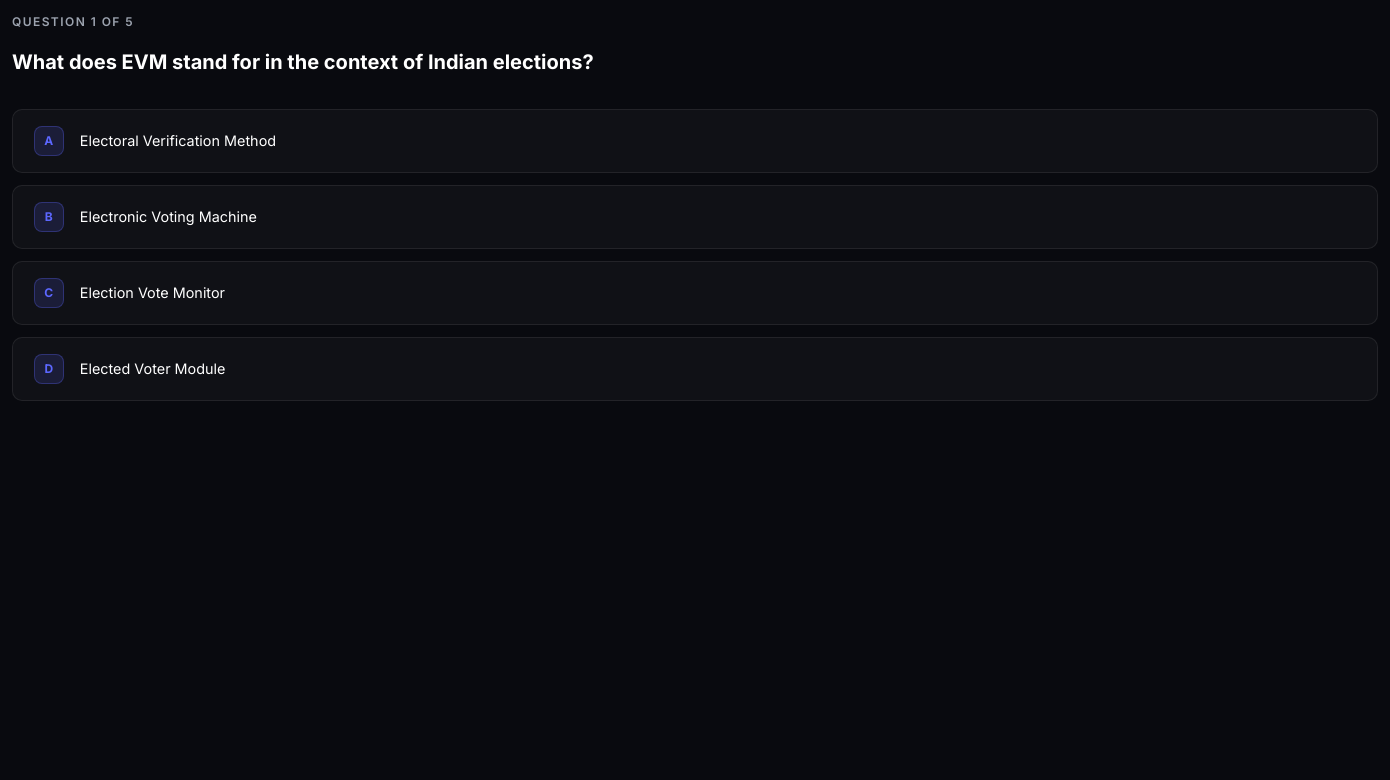
Test: QuizQuestion Component › provides correct feedback for correct answer
Click the text "Electronic Voting Machine". click: (168, 217)
box: [80,206,257,228]
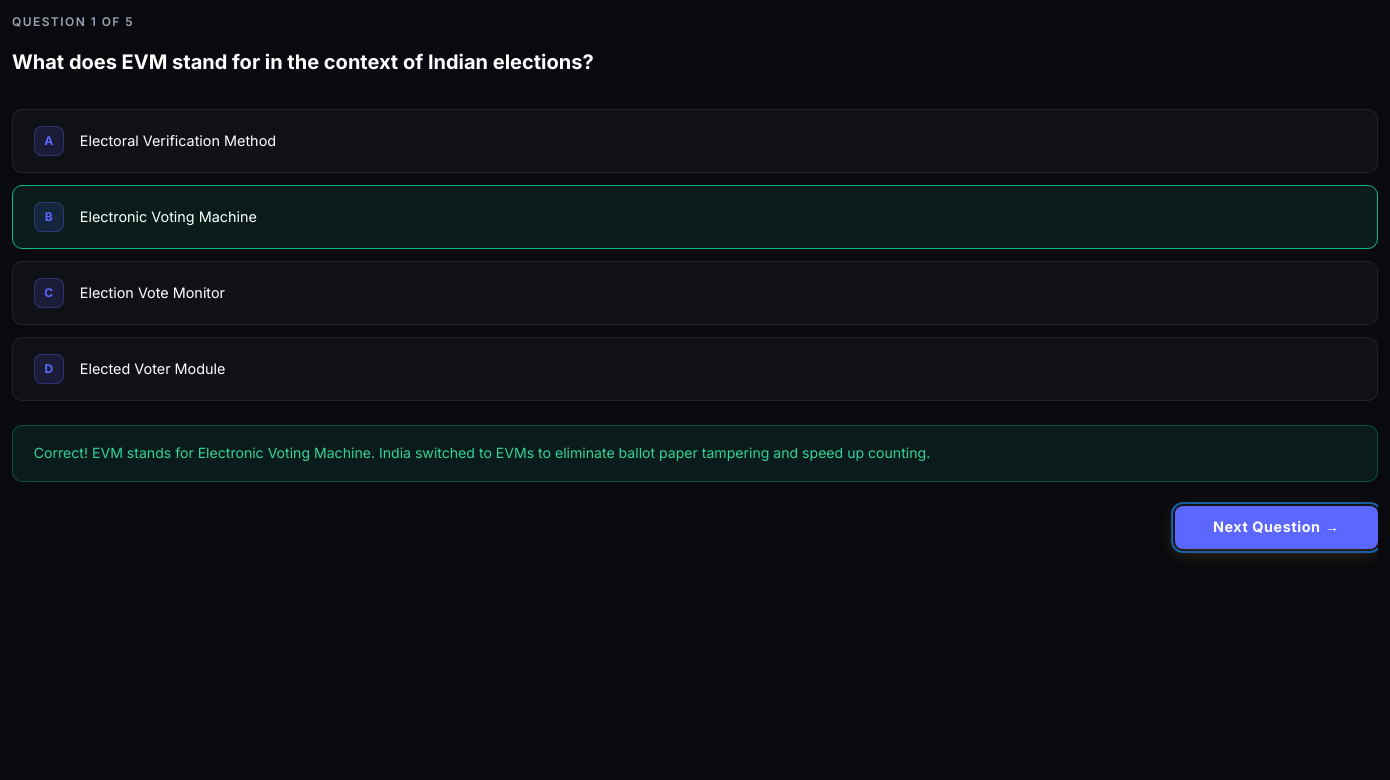
Expected: the text "Correct! EVM stands for Electronic Voting Machine. India switched to EVMs to eliminate ballot paper tampering and speed " is shown, [34,444,930,461]
